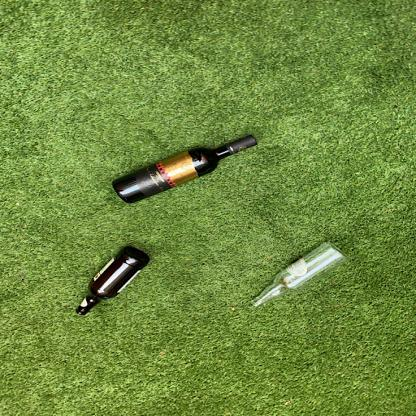trash: (107, 132, 257, 205), (248, 241, 352, 308), (75, 244, 154, 316)
